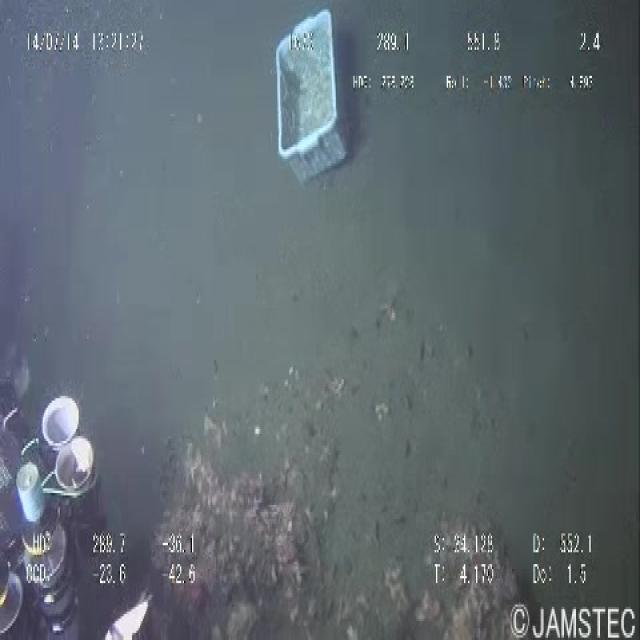plastic: (256, 0, 364, 201)
